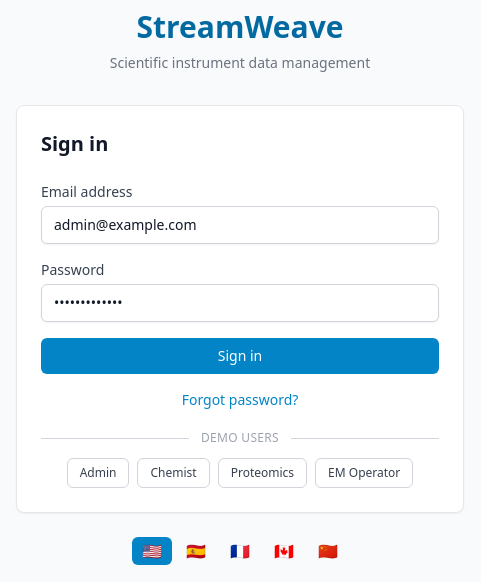
Test: Login page — demo mode › clicking EM Operator fills em-operator credentials
The image size is (481, 582).
Click the button "EM Operator": (364, 473) [315, 458, 413, 488]
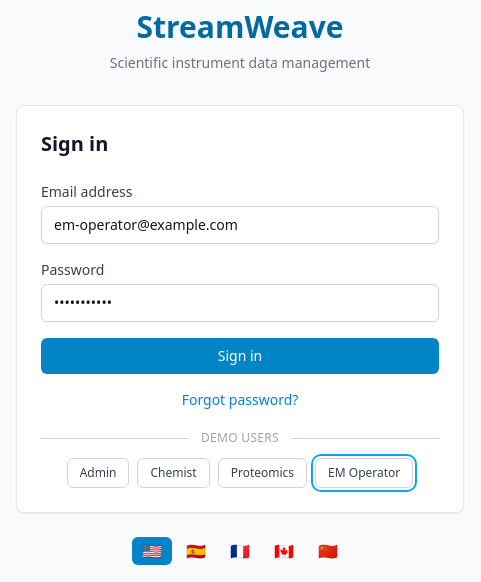
Expected: the password field labelled "Password" holds "devpass123!", [41, 284, 439, 322]
Expected: the field labelled "Email address" holds "em-operator@example.com", [41, 206, 439, 244]
